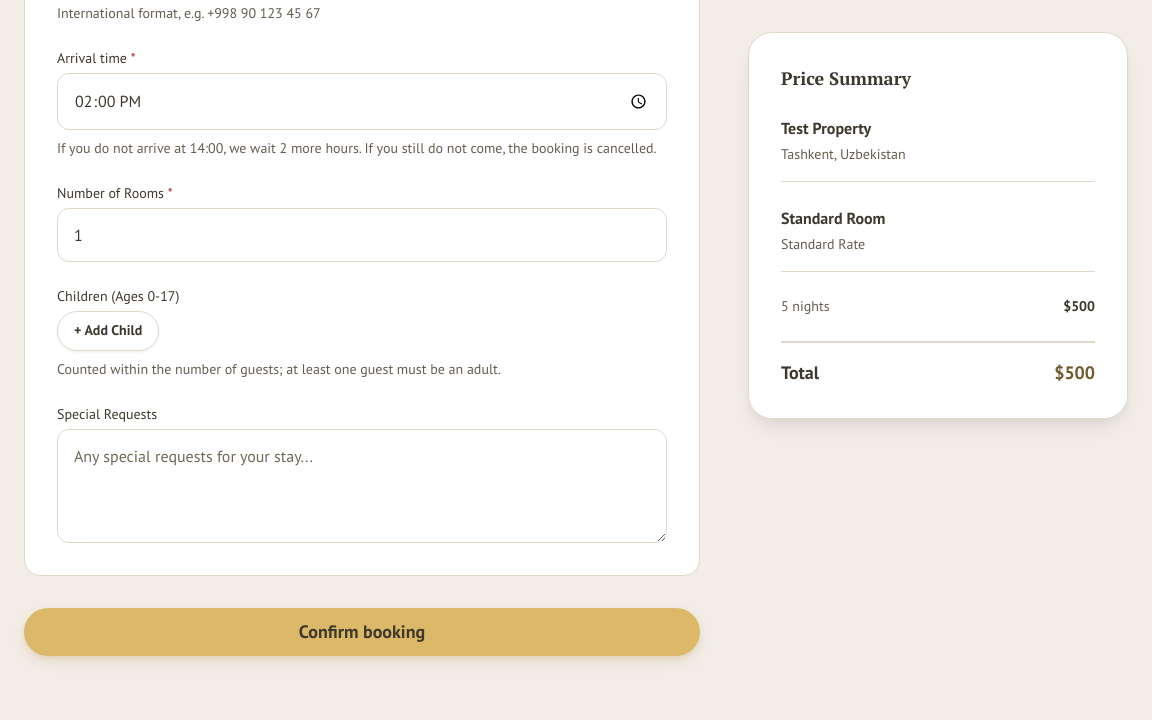
Test: BookingPage › cash booking (plan PLAN_CASH_ONLY stage 2) › shows a text in the page language, not the server text, for overlapping_booking
(page scrolled)
Click the button "Confirm booking" at (362, 632), box [24,608,700,656]
(page scrolled)
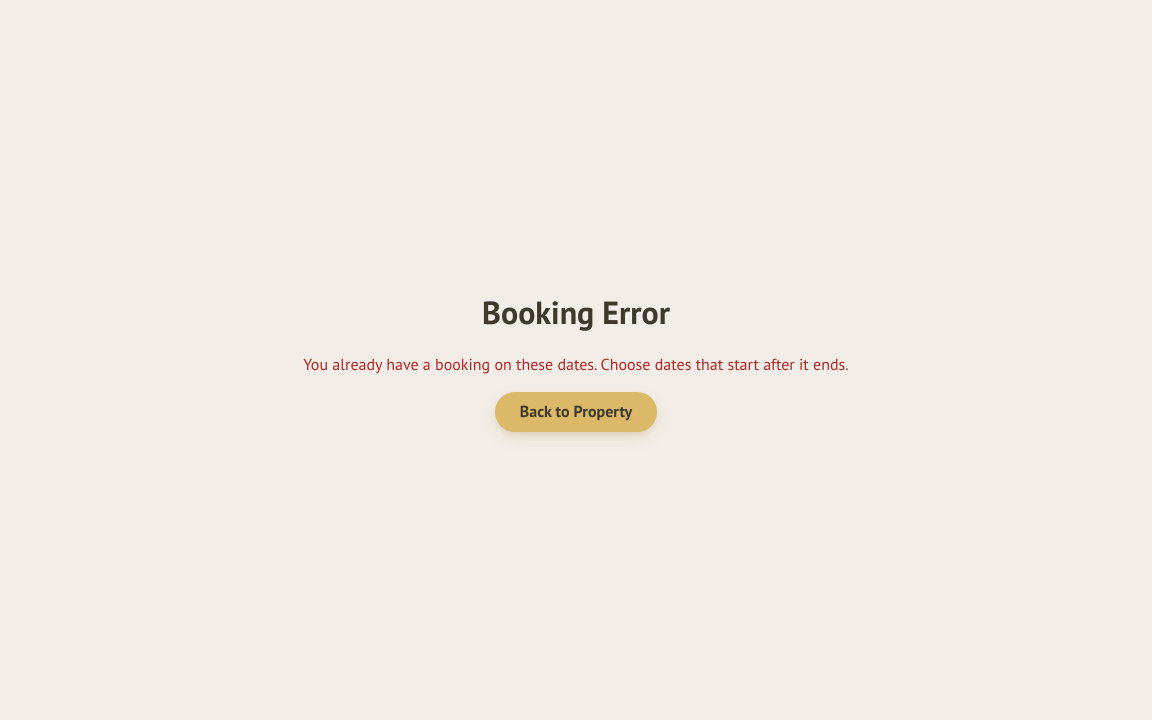
Expected: the message shows "You already have a booking on these dates. Choose dates that start after it ends.", [303,354,849,374]
